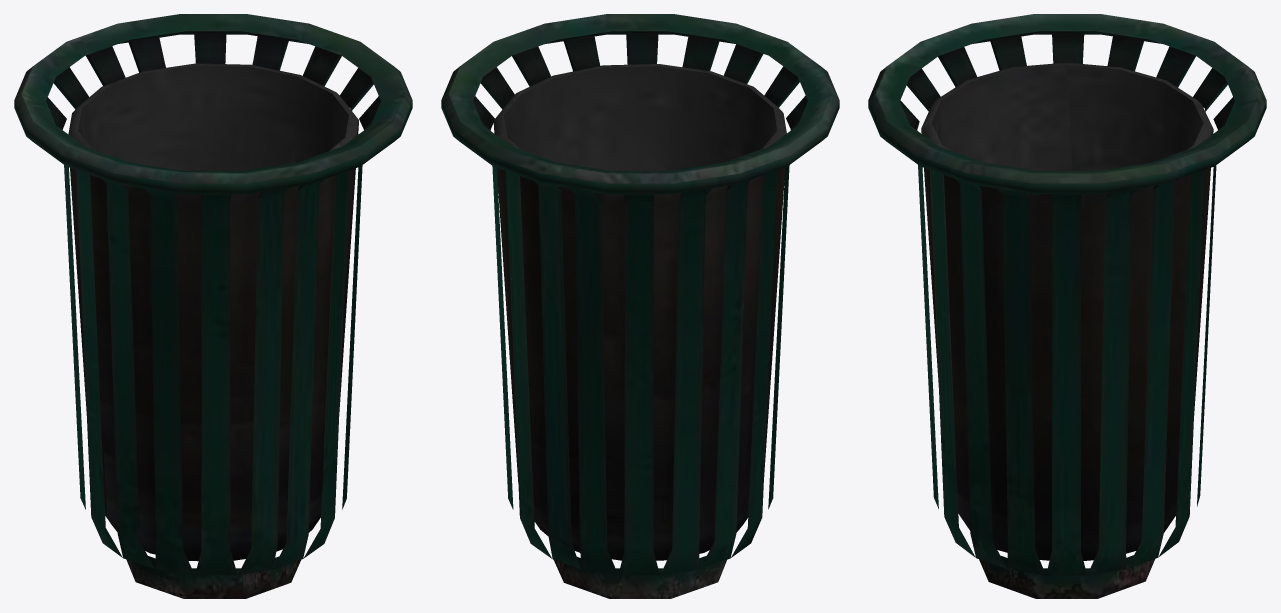
Rendered from trashcan_indoor001b.glb.
The picture shows the model from 3 angles, left to right: view 1: azimuth 30°, elevation 25°; view 2: azimuth 150°, elevation 25°; view 3: azimuth 270°, elevation 25°; orthographic projection.
Parts seen in each view (by area): view 1: 0_lobby_fixtures002a; view 2: 0_lobby_fixtures002a; view 3: 0_lobby_fixtures002a.
Part boxes in pixels (x1,y1,x2,y2): 0_lobby_fixtures002a: (14,14,412,598); 0_lobby_fixtures002a: (441,14,839,598); 0_lobby_fixtures002a: (868,14,1266,598).
Size of the model in its own units: 0.8545 by 1.13 by 0.8677.
1 material, 1 textured.
